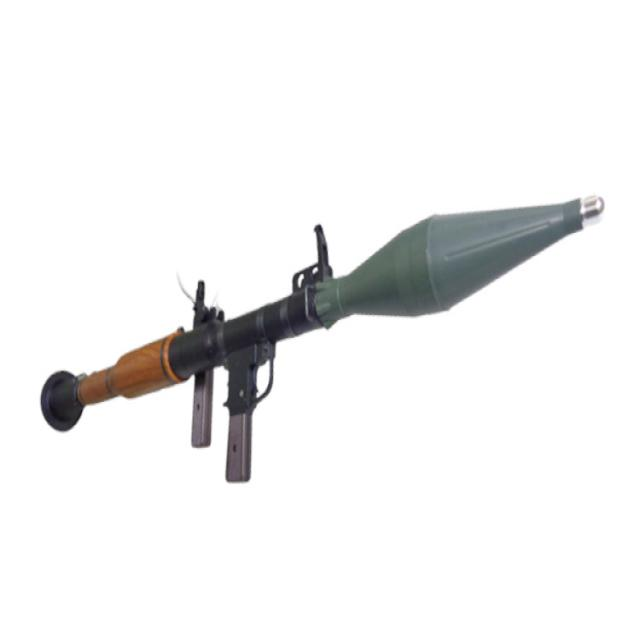bazooka: (17, 91, 625, 514)
